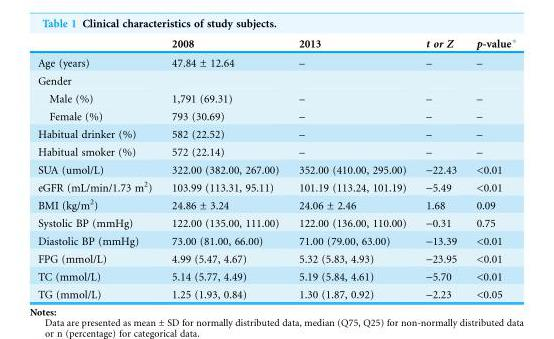table: (37, 36, 514, 300)
table column: (161, 36, 288, 300), (288, 36, 415, 300), (37, 36, 161, 300), (415, 36, 465, 300), (465, 36, 514, 300)
table column header: (37, 36, 514, 53)
table projected row header: (37, 72, 514, 89)
table row: (37, 53, 514, 72), (37, 89, 514, 107), (37, 107, 514, 125), (37, 125, 514, 143), (37, 159, 514, 177), (37, 177, 514, 195), (37, 212, 514, 230), (37, 230, 514, 248), (37, 248, 514, 266), (37, 266, 514, 284), (37, 36, 514, 53), (37, 72, 514, 89), (37, 195, 514, 212), (37, 143, 514, 159), (37, 284, 514, 300)
